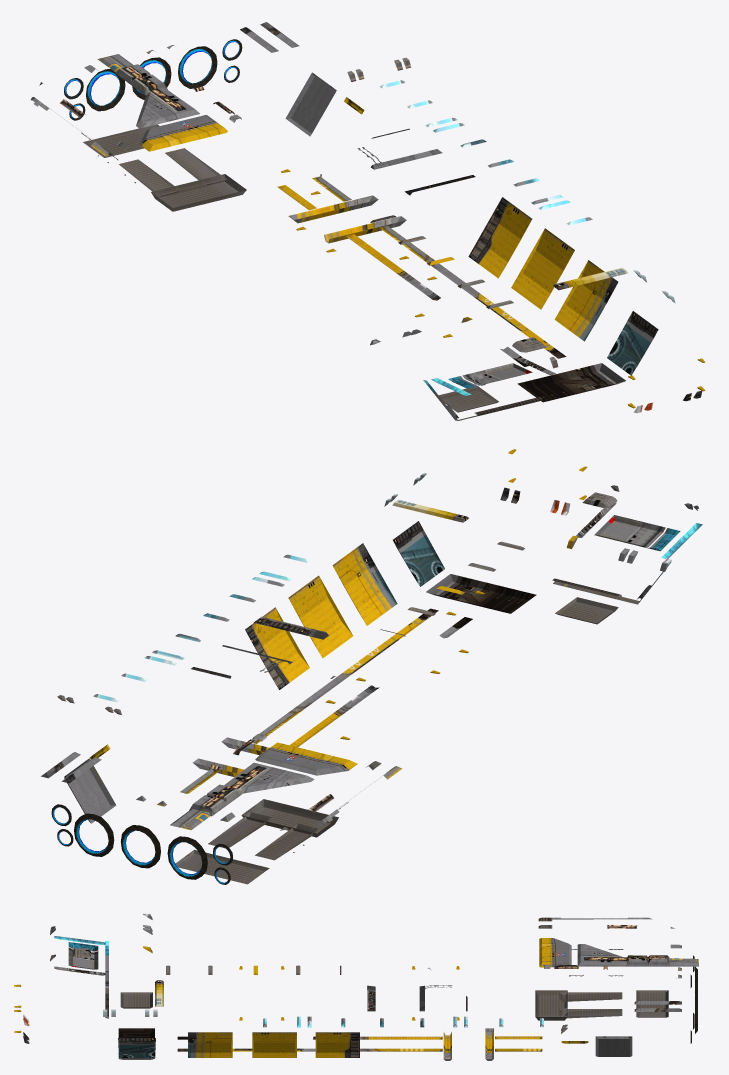
Rendered from Goblins-UVFlip.obj.
3 views of the same model, one above another, from view 1: azimuth 30°, elevation 25°; view 2: azimuth 150°, elevation 25°; view 3: azimuth 270°, elevation 25° (orthographic). The views are drawn at different scales.
Parts seen in each view (by area): view 1: A_TEX, Hgn_Burner, B_TEX; view 2: A_TEX, Hgn_Burner, B_TEX; view 3: A_TEX, B_TEX, Hgn_Burner.
Part boxes in pixels (left/top/right/bottom): A_TEX: left=31, top=22, right=705, bottom=420; Hgn_Burner: left=64, top=39, right=242, bottom=120; B_TEX: left=379, top=80, right=592, bottom=225; A_TEX: left=41, top=449, right=702, bottom=884; Hgn_Burner: left=51, top=804, right=232, bottom=884; B_TEX: left=93, top=554, right=309, bottom=702; A_TEX: left=14, top=913, right=698, bottom=1060; B_TEX: left=263, top=1016, right=543, bottom=1027; Hgn_Burner: left=690, top=955, right=697, bottom=1043.
Bounding box in the file's own units: 830 × 222 × 1923.
